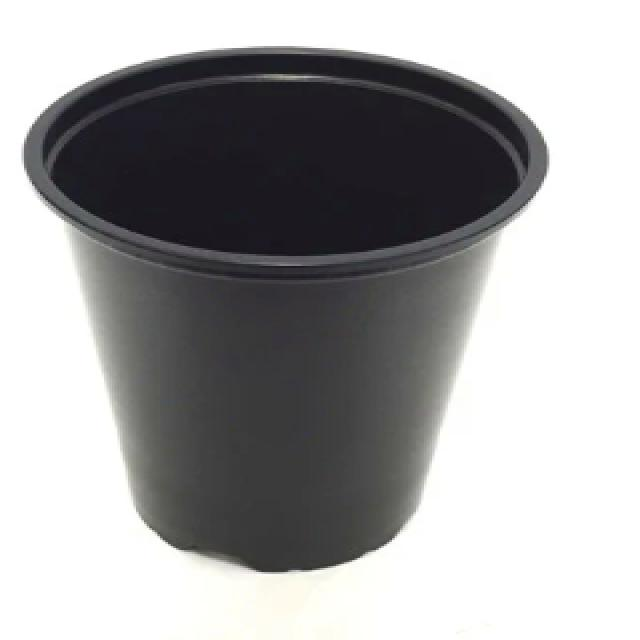Plant Pot: (9, 38, 600, 578)
